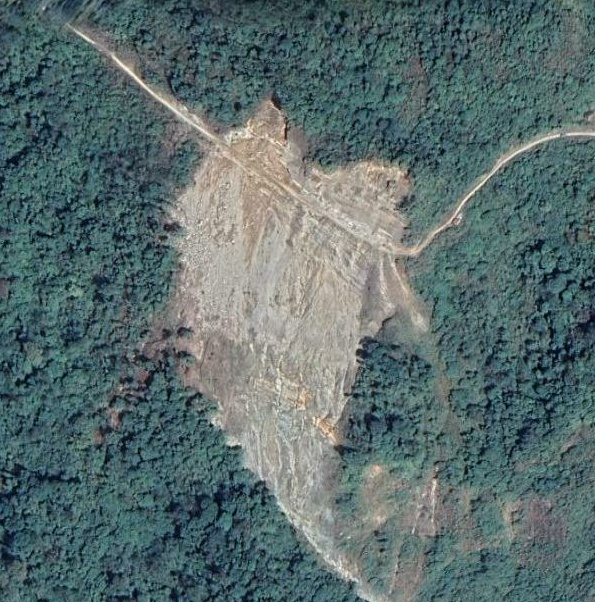slope: (168, 99, 453, 599)
